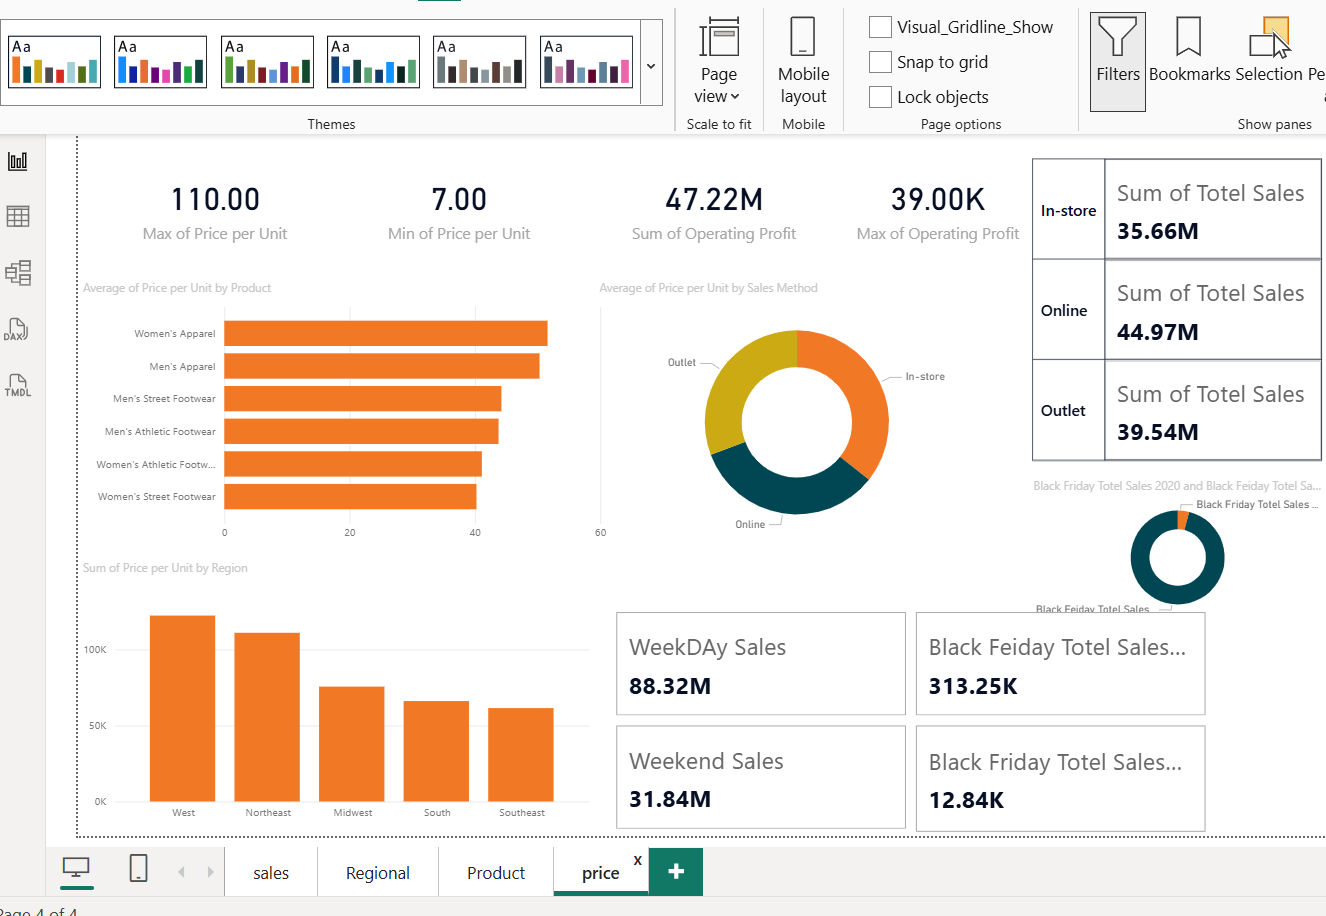

The page's visual inventory and layout, read from the dashboard file:
{"tool":"powerbi","page":{"name":"price","canvas":[1280,720],"ordinal":4},"visuals":[{"type":"card","fields":{"Values":["Max(Data Sales Adidas.Price per Unit)"]},"box":[0,0,280.7,149.3],"z":0},{"type":"barChart","fields":{"Category":["Data Sales Adidas.Product"],"Y":["Avg(Data Sales Adidas.Price per Unit)"]},"box":[0,149.3,546.4,277.7],"z":1000},{"type":"columnChart","fields":{"Y":["Sum(Data Sales Adidas.Price per Unit)"],"Category":["Data Sales Adidas.Region"]},"box":[0,435.9,579.2,277.7],"z":2000},{"type":"donutChart","fields":{"Category":["Data Sales Adidas.Sales Method"],"Y":["Avg(Data Sales Adidas.Price per Unit)"]},"box":[546.4,182.1,546.4,277.7],"z":3000},{"type":"card","fields":{"Values":["Min(Data Sales Adidas.Price per Unit)"]},"box":[273.2,0,235.9,149.3],"z":4000},{"type":"card","fields":{"Values":["Sum(Data Sales Adidas.Operating Profit)"]},"box":[546.5,0,210.5,149.3],"z":5000},{"type":"card","fields":{"Values":["Max(Data Sales Adidas.Operating Profit)"]},"box":[782.4,0,198.6,149.3],"z":6000}]}

Visuals, with their boxes on the page's 1280x720 design canvas (x1, y1, x2, y2). These are canvas units, not pixel positions in the 1326x916 screenshot, which may show the page scaled, cropped or inside an application window:
card - Max(Data Sales Adidas.Price per Unit): (x1=0, y1=0, x2=281, y2=149)
barChart - Data Sales Adidas.Product x Avg(Data Sales Adidas.Price per Unit): (x1=0, y1=149, x2=546, y2=427)
columnChart - Sum(Data Sales Adidas.Price per Unit) x Data Sales Adidas.Region: (x1=0, y1=436, x2=579, y2=714)
donutChart - Data Sales Adidas.Sales Method x Avg(Data Sales Adidas.Price per Unit): (x1=546, y1=182, x2=1093, y2=460)
card - Min(Data Sales Adidas.Price per Unit): (x1=273, y1=0, x2=509, y2=149)
card - Sum(Data Sales Adidas.Operating Profit): (x1=546, y1=0, x2=757, y2=149)
card - Max(Data Sales Adidas.Operating Profit): (x1=782, y1=0, x2=981, y2=149)
